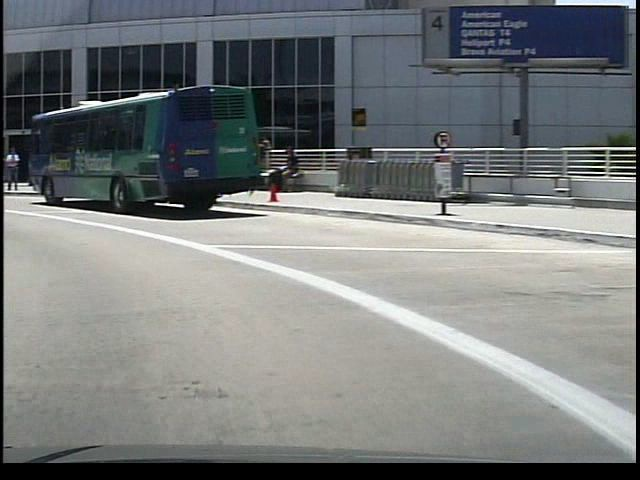person: (265, 144, 294, 197), (4, 143, 20, 195)
